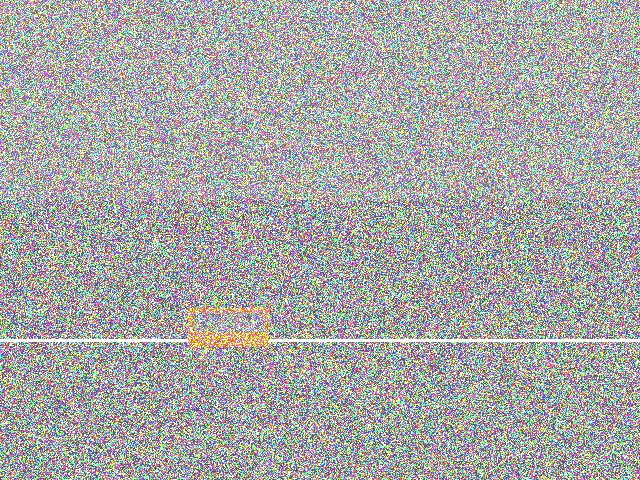car: (386, 94, 550, 231)
